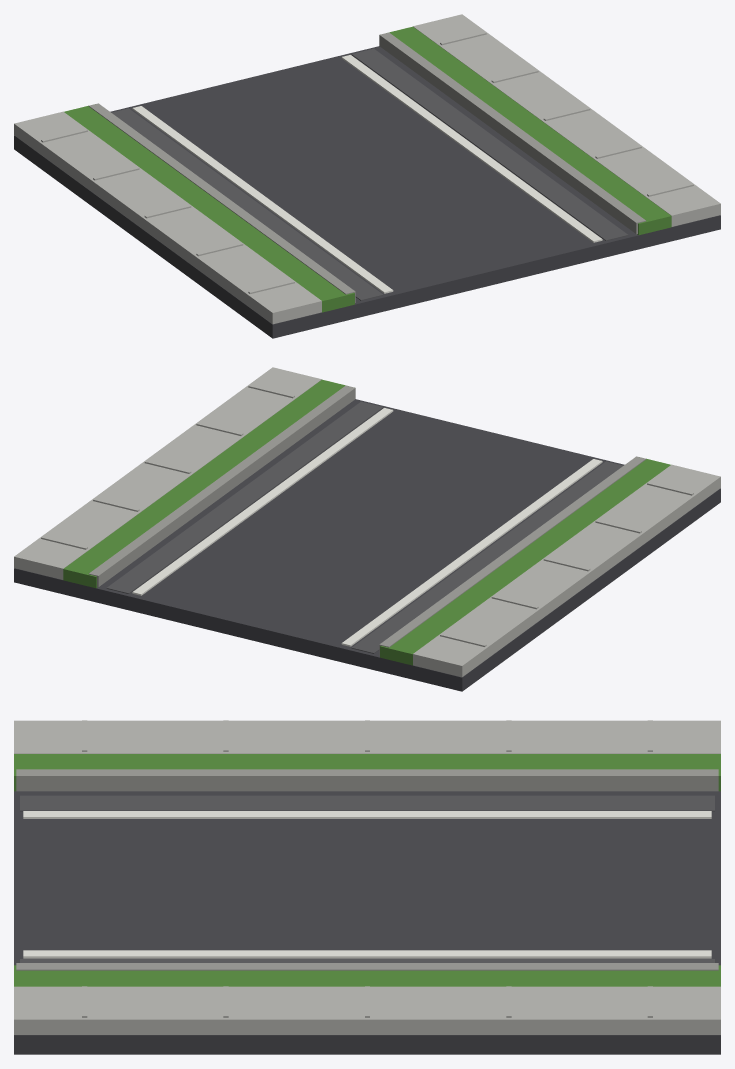
The model's file is SuburbRoad.glb.
3 views of the same model, one above another, from view 1: azimuth 30°, elevation 25°; view 2: azimuth 150°, elevation 25°; view 3: azimuth 270°, elevation 25° (orthographic). The views are drawn at different scales.
Parts seen in each view (by area): view 1: Body; view 2: Body; view 3: Body.
Part boxes in pixels (x1=…): Body: x1=14, y1=14, x2=720, y2=338; Body: x1=14, y1=367, x2=720, y2=691; Body: x1=14, y1=720, x2=720, y2=1054.
Bounding box in the file's own units: 6 × 0.347 × 6.
